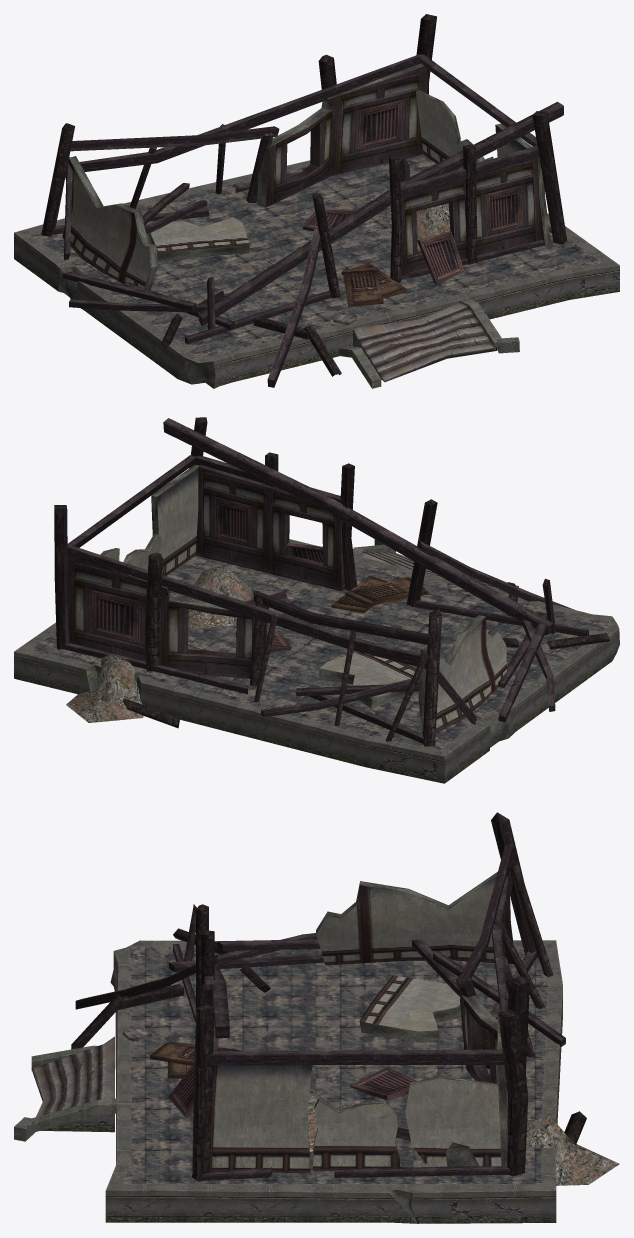
The model's file is pofang_ly_22.fbx.
The picture shows the model from 3 angles, top to bottom: view 1: azimuth 30°, elevation 25°; view 2: azimuth 150°, elevation 25°; view 3: azimuth 270°, elevation 25°; orthographic projection. The views are drawn at different scales.
Visible parts, largest first — view 1: pofang_ly_22; view 2: pofang_ly_22; view 3: pofang_ly_22.
Part boxes in pixels (x1=…): pofang_ly_22: x1=14, y1=14, x2=619, y2=388; pofang_ly_22: x1=14, y1=417, x2=619, y2=783; pofang_ly_22: x1=14, y1=812, x2=619, y2=1223.
Size of what is drawn, in the model's own units: 1748 by 618 by 1677.
